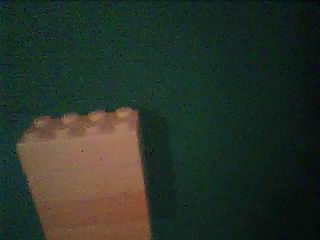lego: (12, 106, 155, 239)
